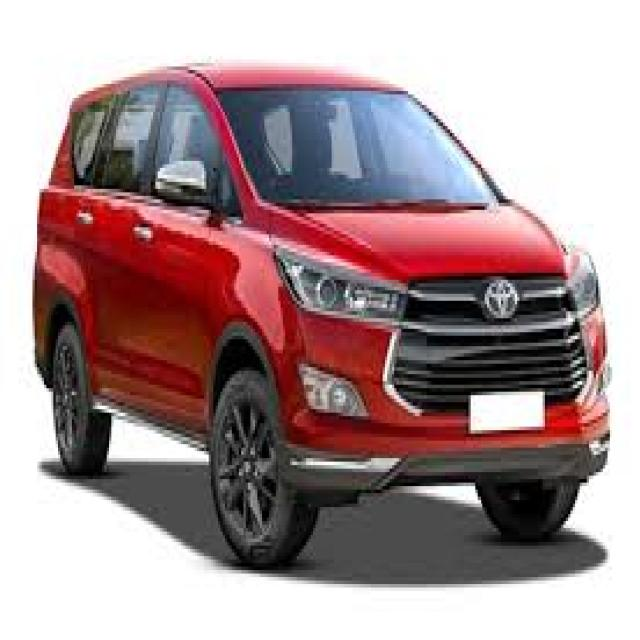light_vehicle: (29, 60, 611, 567)
